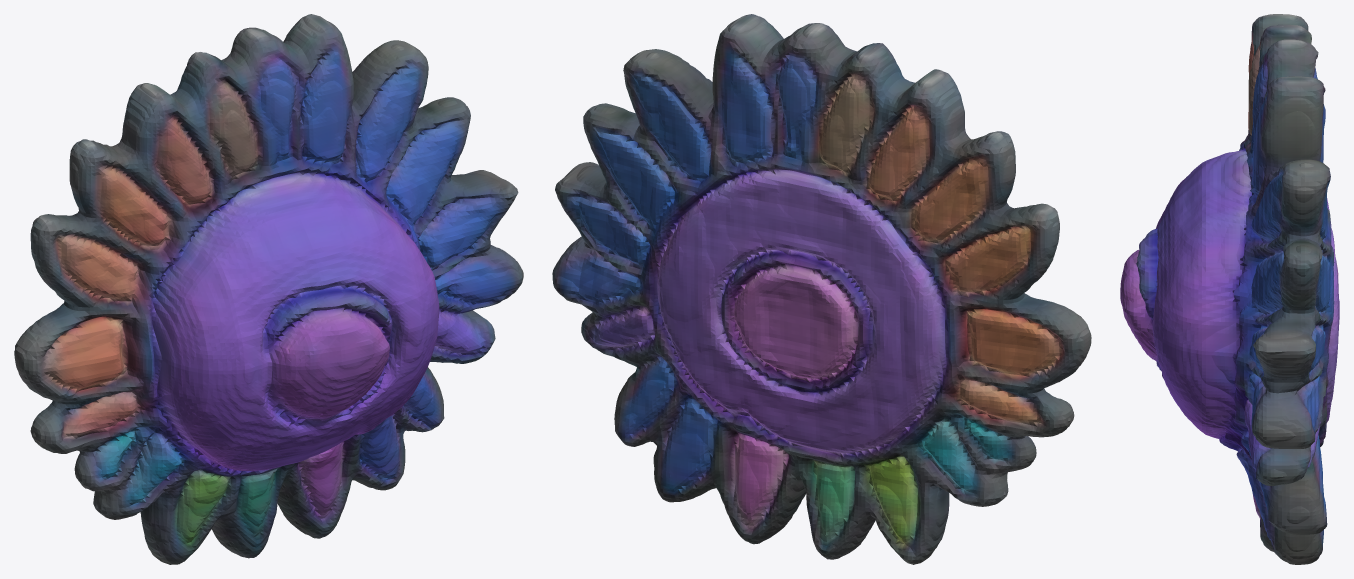
3 renders of one model, left to right at view 1: azimuth 30°, elevation 25°; view 2: azimuth 150°, elevation 25°; view 3: azimuth 270°, elevation 25°, orthographic. The views are drawn at different scales.
Visible parts, largest first — view 1: world; view 2: world; view 3: world.
Boxes of the visible parts, x1,y1,x2,y2 form: world: (14,14,523,564); world: (552,14,1091,564); world: (1120,14,1339,564).
Size of the model in its own units: 0.9873 by 0.9612 by 0.3936.
